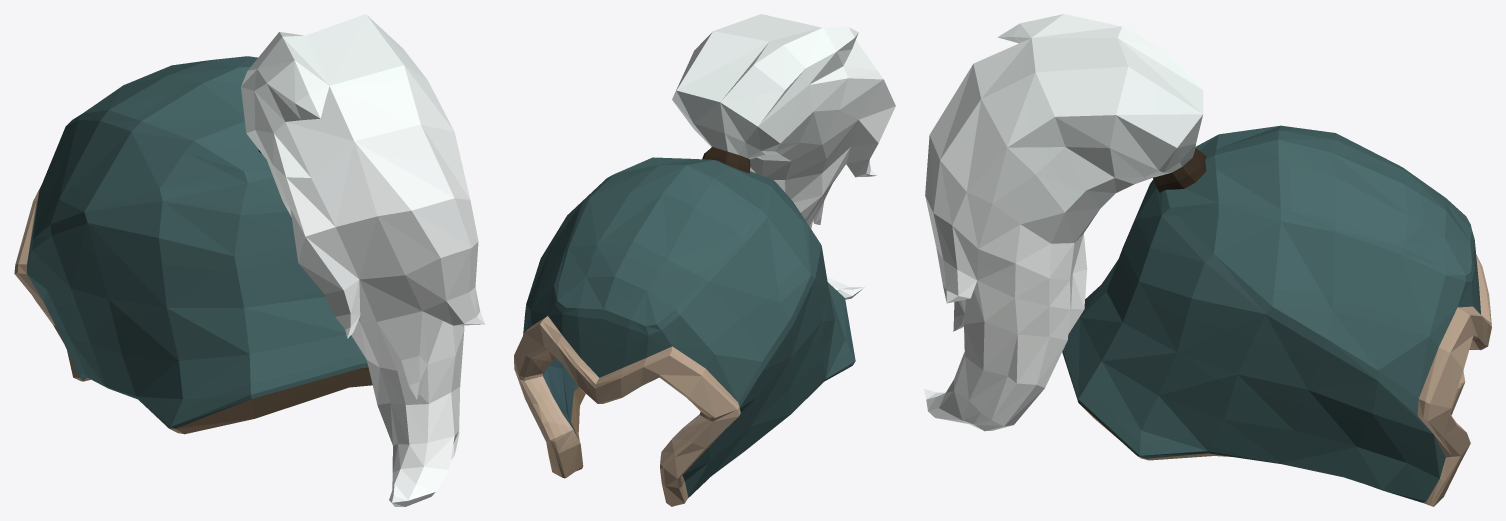
The model's file is CharSkyKid_Hair_AP27HelmetPlumed.glb.
3 renders of one model, left to right at view 1: azimuth 30°, elevation 25°; view 2: azimuth 150°, elevation 25°; view 3: azimuth 270°, elevation 25°, orthographic. The views are drawn at different scales.
Parts seen in each view (by area): view 1: CharSkyKid_Hair_AP27HelmetPlumed; view 2: CharSkyKid_Hair_AP27HelmetPlumed; view 3: CharSkyKid_Hair_AP27HelmetPlumed.
Part boxes in pixels (x1,y1,x2,y2): CharSkyKid_Hair_AP27HelmetPlumed: (14, 14, 485, 506); CharSkyKid_Hair_AP27HelmetPlumed: (514, 14, 895, 506); CharSkyKid_Hair_AP27HelmetPlumed: (924, 14, 1491, 506).
Bounding box in the file's own units: 3.17 × 4.37 × 5.22.
1 material, 1 textured.
